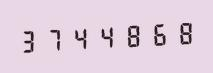eight: (117, 19, 141, 51), (167, 16, 191, 48)
four: (92, 20, 116, 52), (67, 22, 91, 53)
seven: (42, 23, 66, 55)
six: (142, 18, 166, 49)
three: (17, 24, 41, 56)
